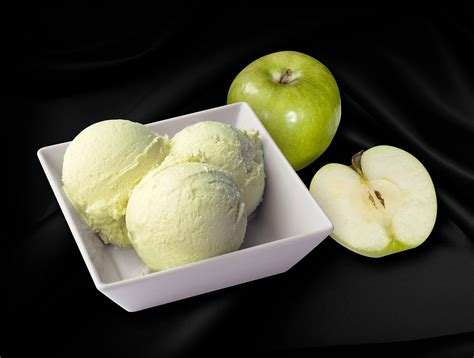apple: (223, 49, 344, 174)
